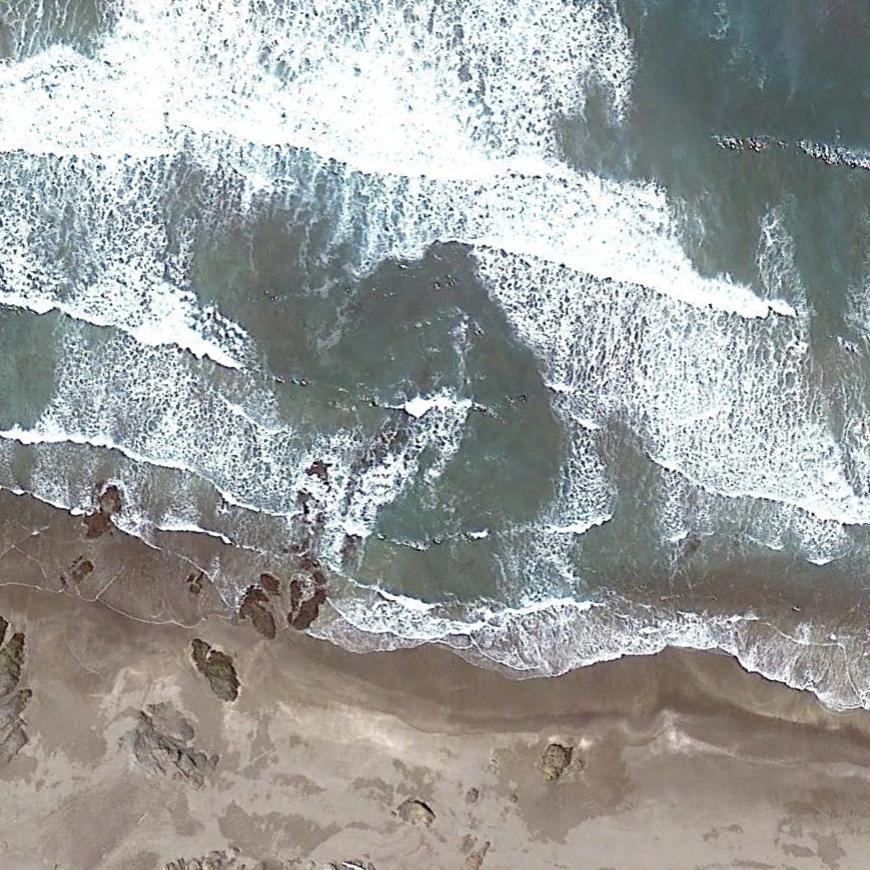rip_current: (122, 154, 617, 583)
